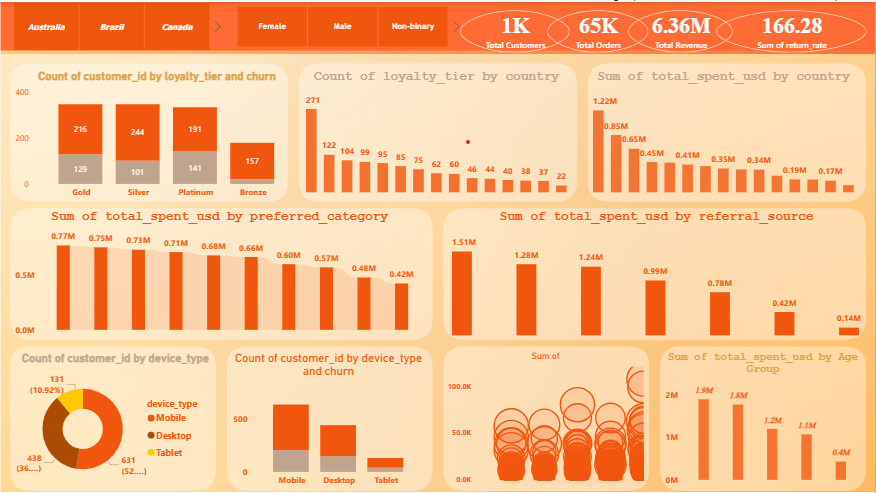

The page's visual inventory and layout, read from the dashboard file:
{"tool":"powerbi","page":{"name":"Page 1","canvas":[1280,720],"ordinal":0},"visuals":[{"type":"cardVisual","fields":{"Data":["khan.Total Customers"]},"box":[661.2,0,184.3,86.3],"z":0},{"type":"cardVisual","fields":{"Data":["khan.Total Orders"]},"box":[788.5,0,172.6,86.3],"z":3},{"type":"cardVisual","fields":{"Data":["khan.Total Revenue"]},"box":[907,0,177,86.3],"z":4},{"type":"cardVisual","fields":{"Data":["Sum(khan.return_rate)"]},"box":[1035.7,0,244.3,86.3],"z":5},{"type":"columnChart","fields":{"Series":["khan.churn"],"Category":["khan.loyalty_tier"],"Y":["CountNonNull(khan.customer_id)"]},"box":[21.9,98,415.5,193.1],"z":6},{"type":"columnChart","fields":{"Y":["CountNonNull(khan.loyalty_tier)"],"Category":["khan.country"]},"box":[447.6,98,381.8,181.4],"z":7},{"type":"columnChart","fields":{"Category":["khan.preferred_category"],"Y":["Sum(khan.total_spent_usd)"]},"box":[21.9,302.8,598.3,185.8],"z":9},{"type":"columnChart","fields":{"Y":["Sum(khan.total_spent_usd)"],"Category":["khan.referral_source"]},"box":[661.2,302.8,598.3,185.8],"z":10},{"type":"columnChart","fields":{"Category":["khan.country"],"Y":["Sum(khan.total_spent_usd)"]},"box":[867.5,98,381.8,181.4],"z":11},{"type":"donutChart","fields":{"Category":["khan.device_type"],"Y":["CountNonNull(khan.customer_id)"]},"box":[21.9,510.5,294,209.2],"z":12},{"type":"columnChart","fields":{"Series":["khan.churn"],"Y":["CountNonNull(khan.customer_id)"],"Category":["khan.device_type"]},"box":[340.8,510.5,279.4,201.9],"z":13},{"type":"scatterChart","title":"Sum of","fields":{"X":["Sum(khan.satisfaction_score)"],"Size":["khan.Total Orders"],"Y":["khan.total_spent_usd"]},"box":[649.5,510.5,297,201.9],"z":14},{"type":"columnChart","fields":{"Y":["Sum(khan.total_spent_usd)"],"Category":["khan.Age Group"]},"box":[972.8,510.5,286.7,197.5],"z":15},{"type":"slicer","fields":{"Values":["khan.country"]},"box":[0,0,324.8,71.7],"z":16},{"type":"slicer","fields":{"Values":["khan.gender"]},"box":[321.8,0,356.9,71.7],"z":17}]}

Visuals, with their boxes in screenshot pixels (x1, y1, x2, y2), scaled from the page's 1280x720 canvas onto the 876x493 screenshot:
cardVisual - khan.Total Customers: pyautogui.locateOnScreen(453, 0, 579, 59)
cardVisual - khan.Total Orders: pyautogui.locateOnScreen(540, 0, 658, 59)
cardVisual - khan.Total Revenue: pyautogui.locateOnScreen(621, 0, 742, 59)
cardVisual - Sum(khan.return_rate): pyautogui.locateOnScreen(709, 0, 875, 59)
columnChart - khan.churn x khan.loyalty_tier: pyautogui.locateOnScreen(15, 67, 299, 199)
columnChart - CountNonNull(khan.loyalty_tier) x khan.country: pyautogui.locateOnScreen(306, 67, 568, 191)
columnChart - khan.preferred_category x Sum(khan.total_spent_usd): pyautogui.locateOnScreen(15, 207, 424, 335)
columnChart - Sum(khan.total_spent_usd) x khan.referral_source: pyautogui.locateOnScreen(453, 207, 862, 335)
columnChart - khan.country x Sum(khan.total_spent_usd): pyautogui.locateOnScreen(594, 67, 855, 191)
donutChart - khan.device_type x CountNonNull(khan.customer_id): pyautogui.locateOnScreen(15, 350, 216, 492)
columnChart - khan.churn x CountNonNull(khan.customer_id): pyautogui.locateOnScreen(233, 350, 424, 488)
"Sum of" scatterChart: pyautogui.locateOnScreen(445, 350, 648, 488)
columnChart - Sum(khan.total_spent_usd) x khan.Age Group: pyautogui.locateOnScreen(666, 350, 862, 485)
slicer - khan.country: pyautogui.locateOnScreen(0, 0, 222, 49)
slicer - khan.gender: pyautogui.locateOnScreen(220, 0, 464, 49)
